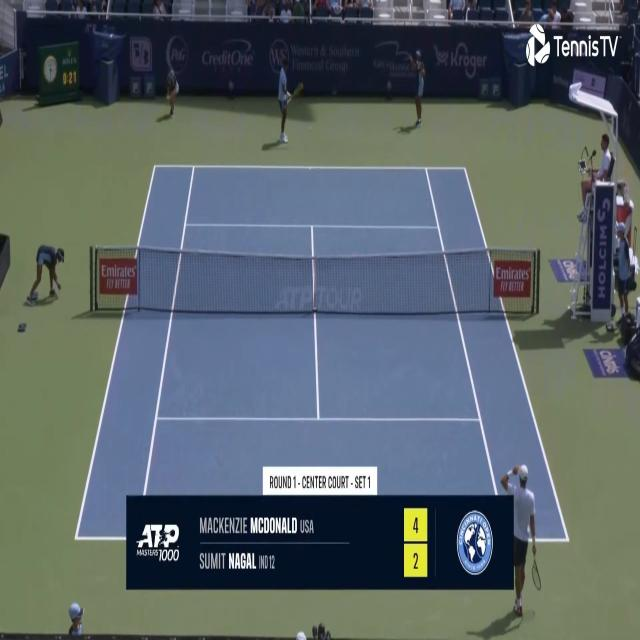tennis-player: (507, 455, 542, 622), (274, 54, 303, 146)
